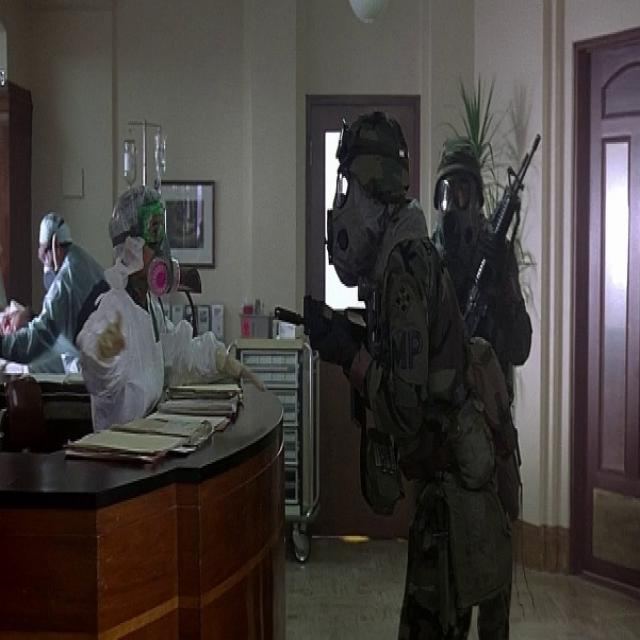rifle: (462, 129, 546, 342)
